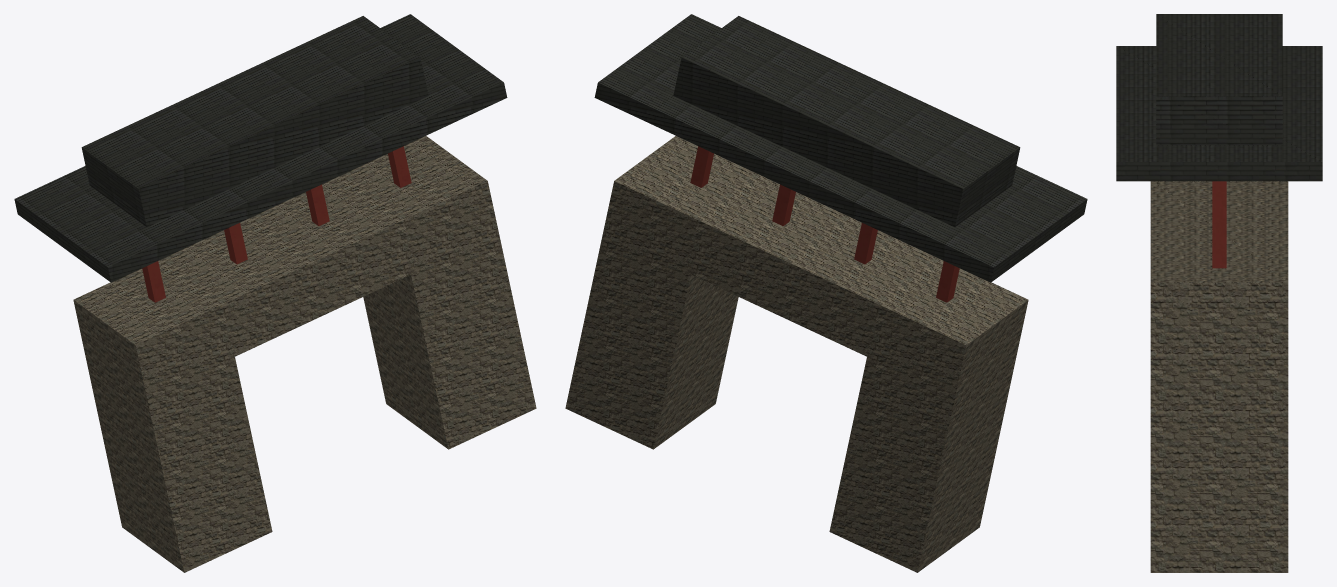
File: crossing_tilted_gate_01.glb
The picture shows the model from 3 angles, left to right: view 1: azimuth 30°, elevation 25°; view 2: azimuth 150°, elevation 25°; view 3: azimuth 270°, elevation 25°; orthographic projection. The views are drawn at different scales.
Parts seen in each view (by area): view 1: crossing_tilted_gate_01; view 2: crossing_tilted_gate_01; view 3: crossing_tilted_gate_01.
Part boxes in pixels (<box>): crossing_tilted_gate_01: <box>14,14,536,572</box>; crossing_tilted_gate_01: <box>565,14,1087,572</box>; crossing_tilted_gate_01: <box>1116,14,1322,572</box>.
Bounding box in the file's own units: 9.87 × 9.67 × 3.6.
Materials: 3 (3 with a texture image).
